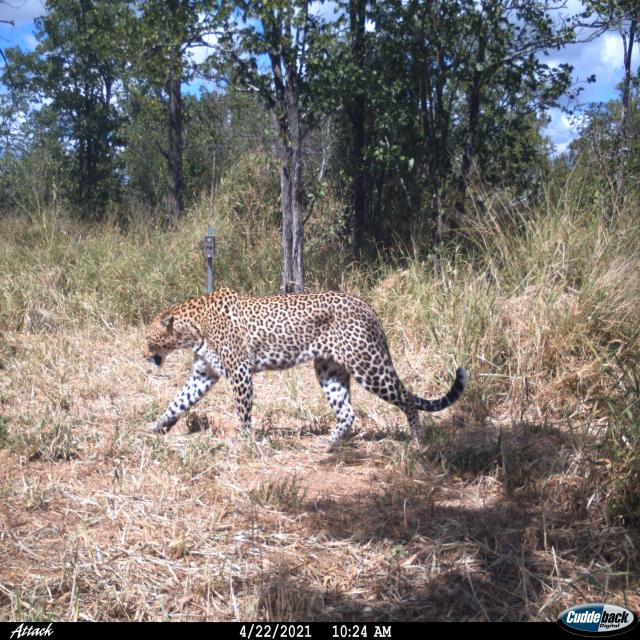Leopard: (132, 276, 474, 459)
